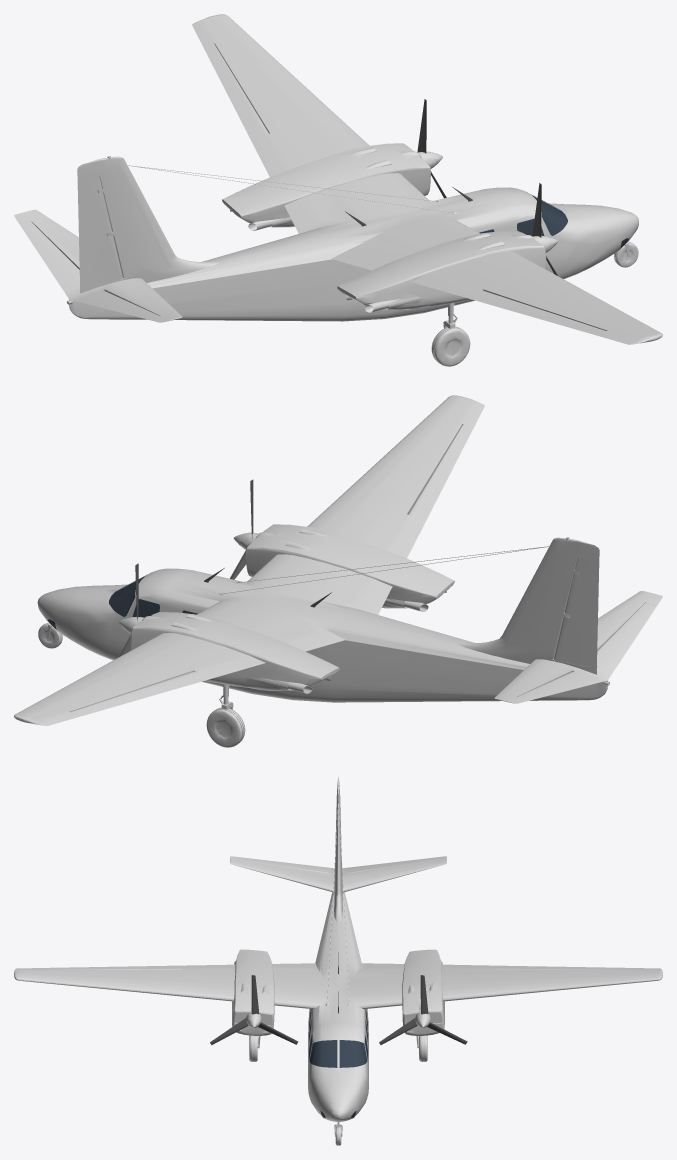
3 views of the same model, one above another, from view 1: azimuth 30°, elevation 25°; view 2: azimuth 150°, elevation 25°; view 3: azimuth 270°, elevation 25° (orthographic). The views are drawn at different scales.
Visible parts, largest first — view 1: body, glass; view 2: body, glass; view 3: body, glass, spin (×2).
Boxes of the visible parts, x1,y1,x2,y2 form: body: (14, 14, 662, 366); glass: (479, 194, 628, 248); body: (14, 395, 662, 747); glass: (48, 574, 197, 629); body: (14, 776, 662, 1145); glass: (309, 1009, 367, 1117); spin (×2): (210, 975, 467, 1045).
Bounding box in the file's own units: 1.64 × 0.6508 × 2.2.
